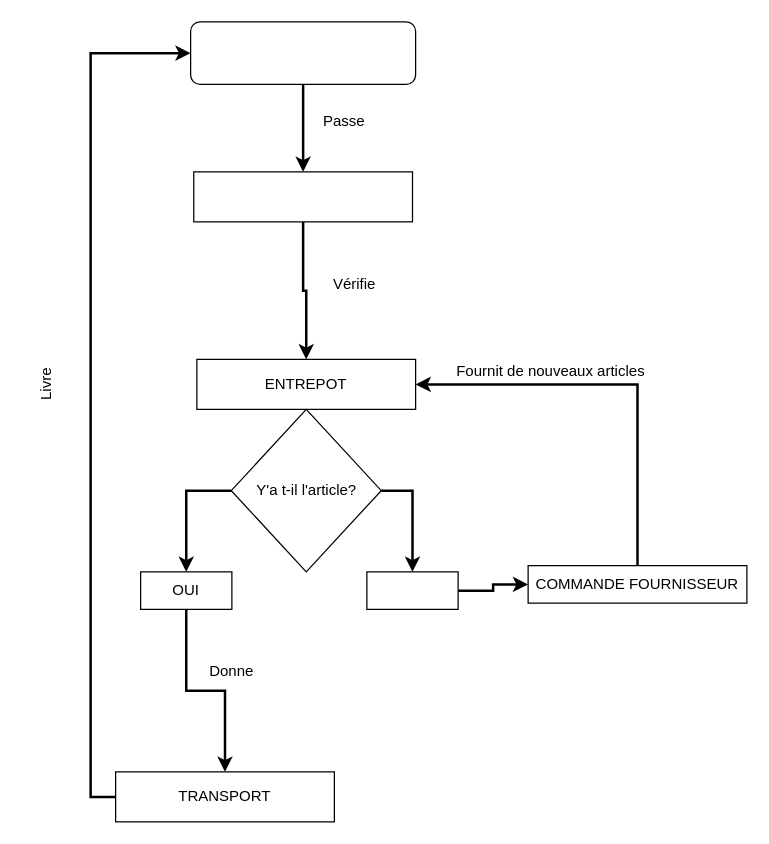
Image size: 769x844. Some labels were removed from this diagram. Each missing label, with the box of its shape:
CLIENT: (189, 21, 416, 84)
COMMANDE CLIENT: (192, 171, 412, 222)
NON: (366, 571, 458, 609)
